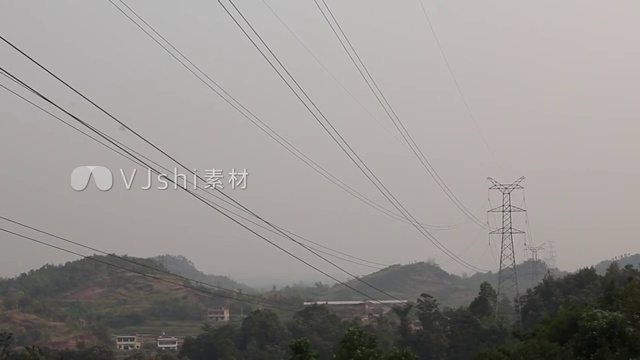tower_body: (484, 171, 532, 312)
tower_head: (486, 174, 529, 194)
